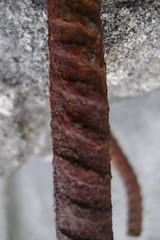Exposed reinforcement: (45, 1, 114, 240), (109, 125, 143, 237)
